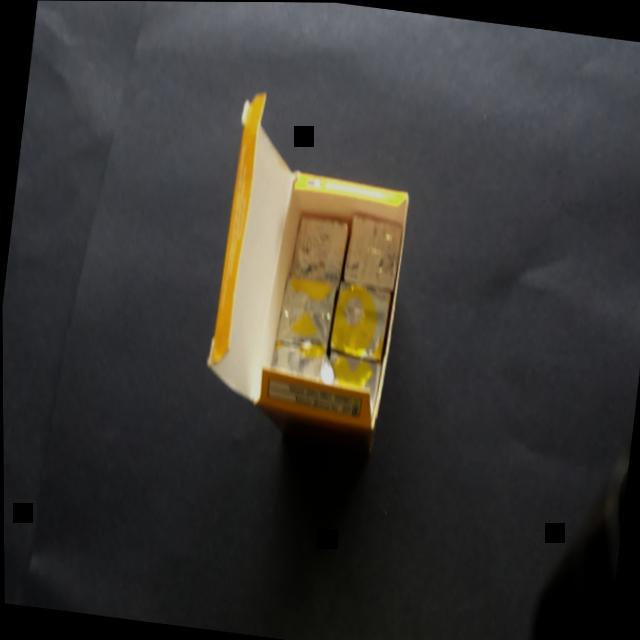Chickenstock: (168, 71, 450, 485)
